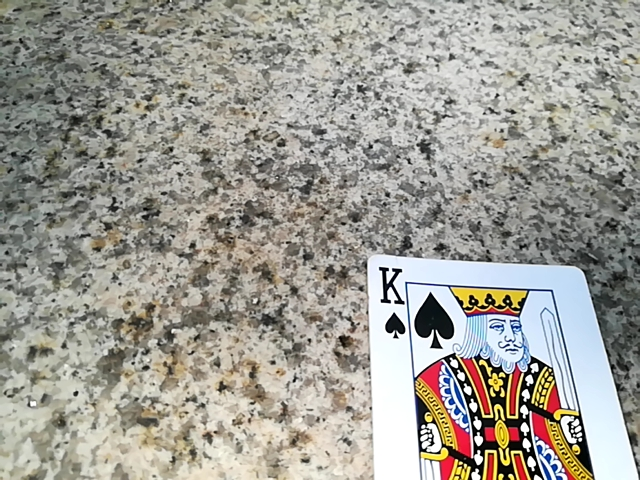ht k: (355, 252, 640, 480)
